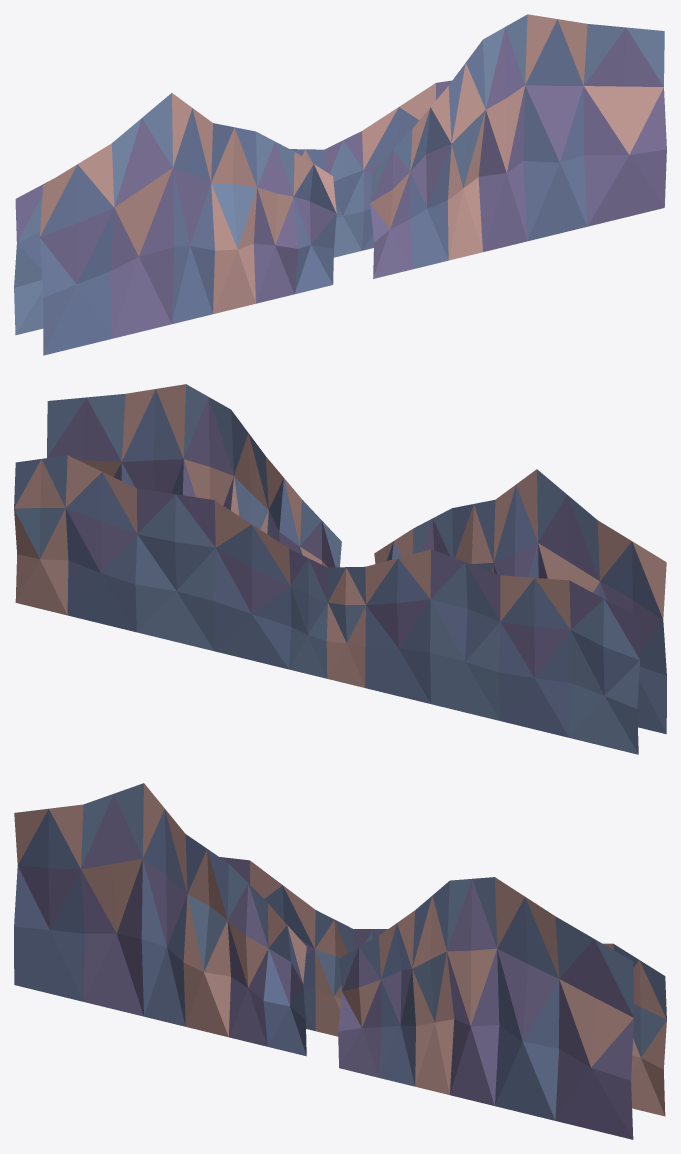
File: environment-mountains.glb
3 renders of one model, top to bottom at view 1: azimuth 30°, elevation 25°; view 2: azimuth 150°, elevation 25°; view 3: azimuth 330°, elevation 25°, orthographic.
Visible parts, largest first — view 1: MountainLayerRight, MountainLayerLeft, MountainLayerFar; view 2: MountainLayerFar, MountainLayerRight, MountainLayerLeft; view 3: MountainLayerRight, MountainLayerLeft, MountainLayerFar.
Boxes of the visible parts, bbox=[...] form: MountainLayerRight: bbox=[370, 14, 666, 278]; MountainLayerLeft: bbox=[39, 93, 336, 355]; MountainLayerFar: bbox=[14, 80, 452, 335]; MountainLayerFar: bbox=[14, 455, 640, 754]; MountainLayerRight: bbox=[47, 384, 341, 567]; MountainLayerLeft: bbox=[374, 469, 666, 734]; MountainLayerRight: bbox=[338, 877, 633, 1139]; MountainLayerLeft: bbox=[14, 783, 306, 1056]; MountainLayerFar: bbox=[220, 857, 666, 1116].
Size of the model in its own units: 36 by 12.9 by 3.73.
